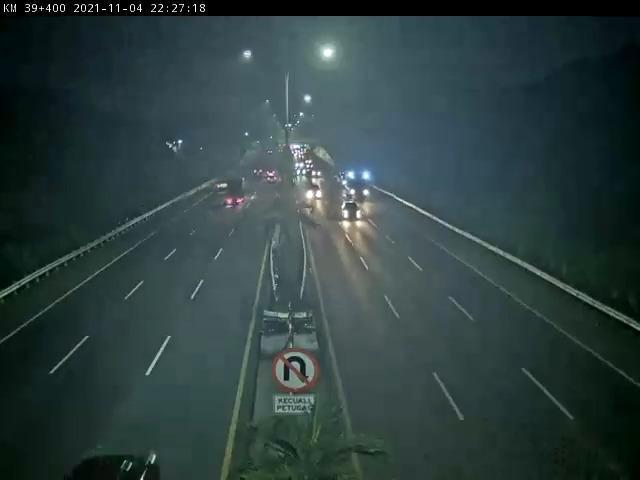car: (343, 202, 364, 221)
truck: (224, 175, 246, 208)
